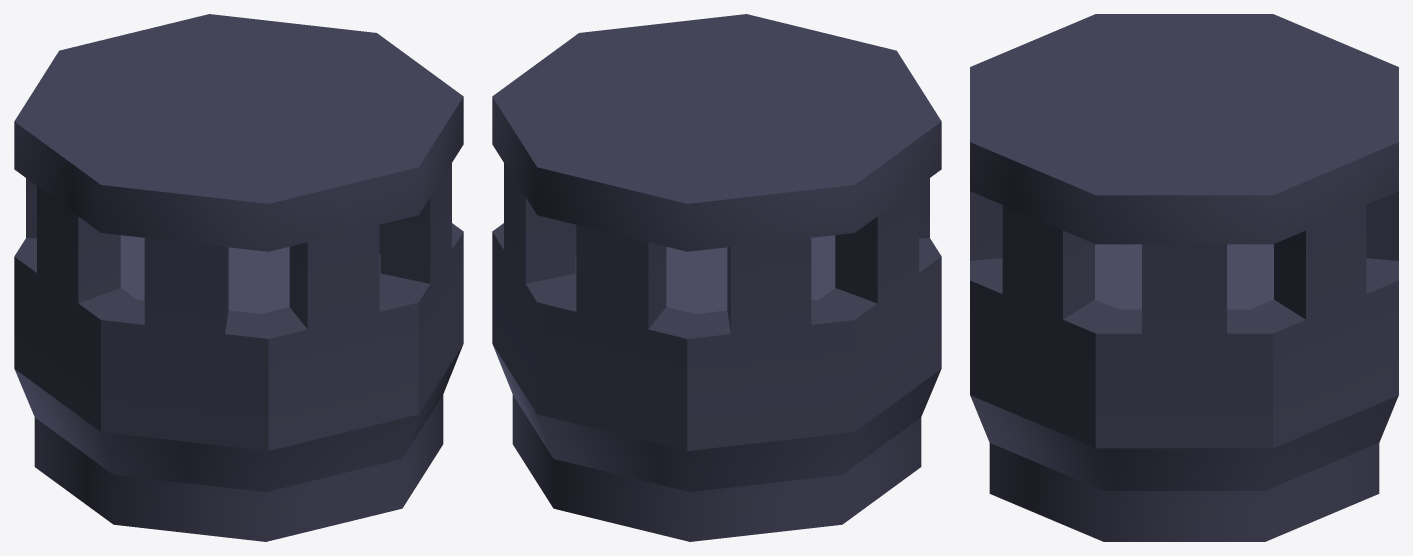
File: tower-watch.fbx
The picture shows the model from 3 angles, left to right: view 1: azimuth 30°, elevation 25°; view 2: azimuth 150°, elevation 25°; view 3: azimuth 270°, elevation 25°; orthographic projection. The views are drawn at different scales.
Visible parts, largest first — view 1: tower-watch; view 2: tower-watch; view 3: tower-watch.
Part boxes in pixels (left/top/right/bottom): tower-watch: left=14, top=14, right=463, bottom=541; tower-watch: left=492, top=14, right=941, bottom=541; tower-watch: left=970, top=14, right=1398, bottom=541.
Size of the model in its own units: 305 by 278 by 305.
